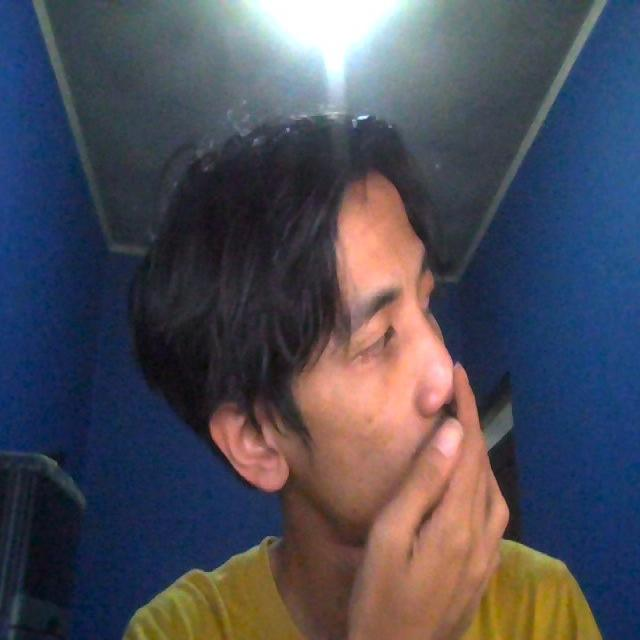melihat kekiri: (125, 105, 516, 575)
movement: (377, 356, 532, 640)
